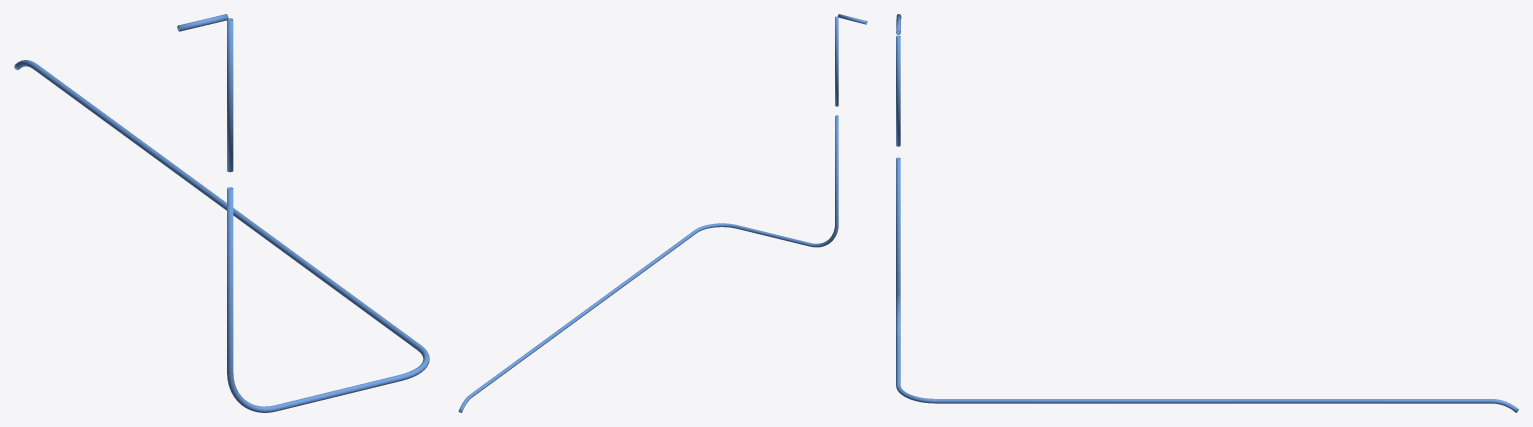
Rendered from pipes_supply__water_heater__2fd0fe3a__r4y.glb.
3 views of the same model, side by side, from view 1: azimuth 30°, elevation 25°; view 2: azimuth 150°, elevation 25°; view 3: azimuth 270°, elevation 25° (orthographic). The views are drawn at different scales.
Parts seen in each view (by area): view 1: pipe_supply_cold_riser__pex; view 2: pipe_supply_cold_riser__pex; view 3: pipe_supply_cold_riser__pex.
Part boxes in pixels (x1,y1,x2,y2): pipe_supply_cold_riser__pex: (14,14,429,412); pipe_supply_cold_riser__pex: (458,14,867,412); pipe_supply_cold_riser__pex: (896,14,1518,412).
Bounding box in the file's own units: 1.07 × 1.6 × 2.97.
